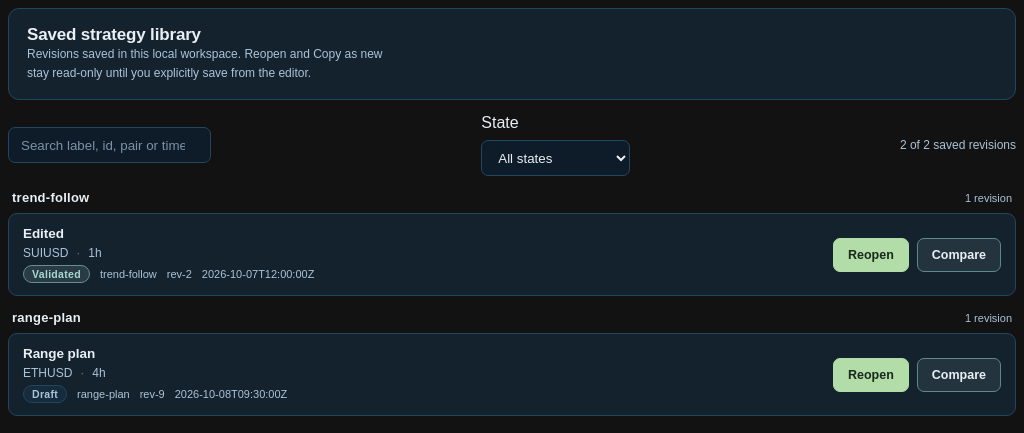
Scenario: SavedStrategyLibrary signal slice — search › filters locally by label and keeps an exact-row count
Expected: the number of list items with test id "library-row" is 2, [8,213,1016,296]; [8,333,1016,416]
Type "range" into the search field named "search saved strategies" at point(110, 145), box [8,127,211,163]
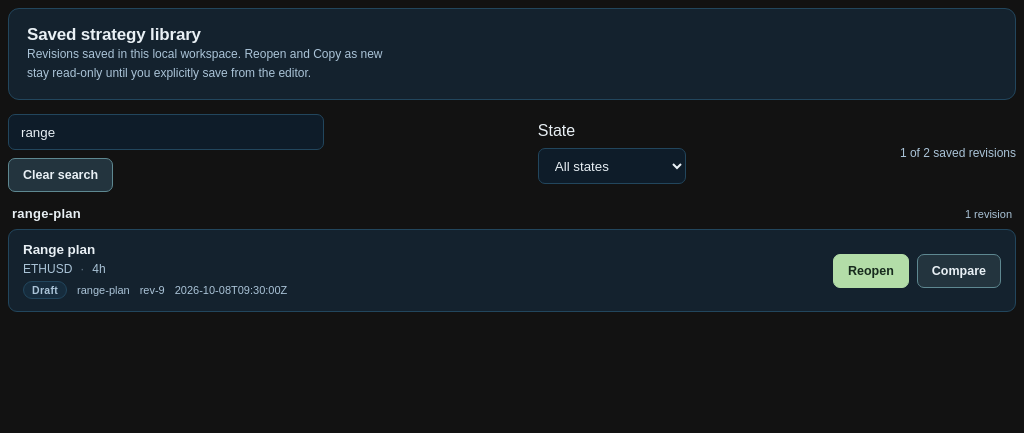
Now the number of list items with test id "library-row" is 1, box [8,229,1016,312]
Now the text with test id "library-search-count" shows "1 of 2", box [900,146,1016,160]
